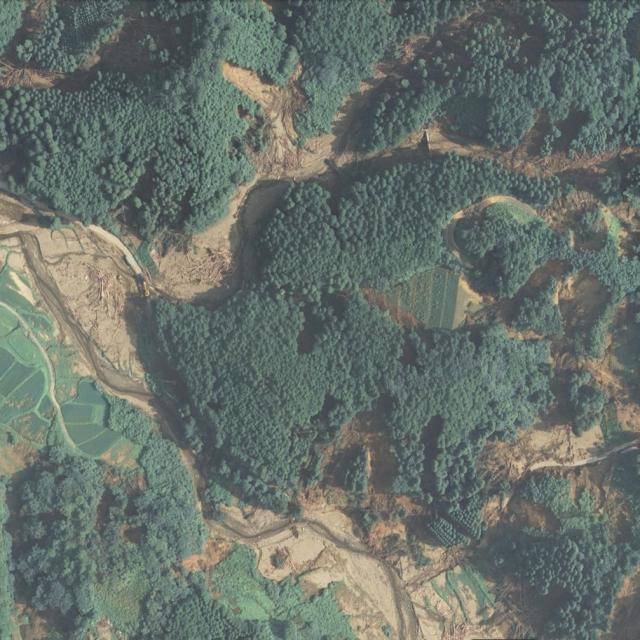landslide: (154, 63, 335, 303), (0, 195, 150, 409), (208, 508, 428, 640), (500, 425, 610, 481)
